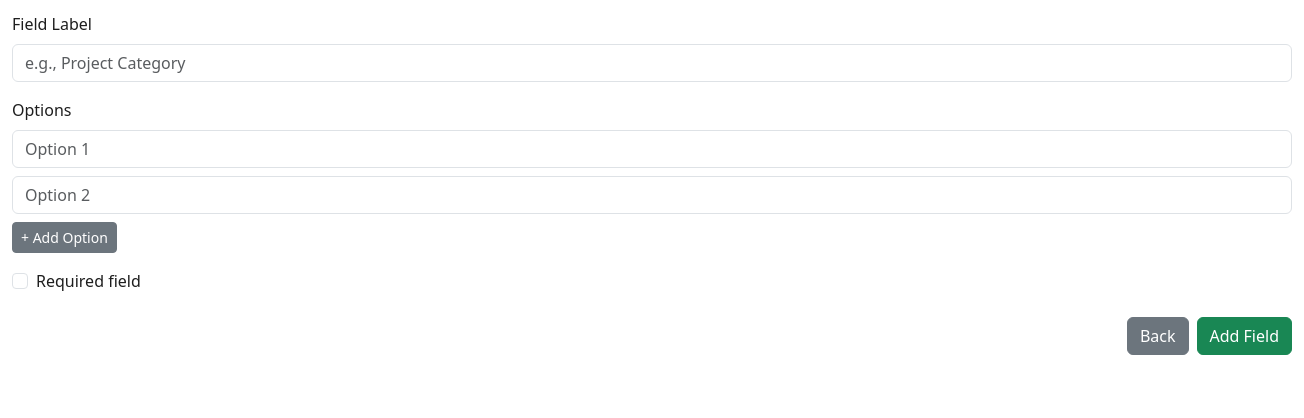
it: RadioFieldConfigurator › adds option when + Add Option is clicked
Expected: the field with placeholder "Option 3" is not shown
// Click add option button
Click the button "+ Add Option": (64, 238) left=12, top=222, right=117, bottom=253
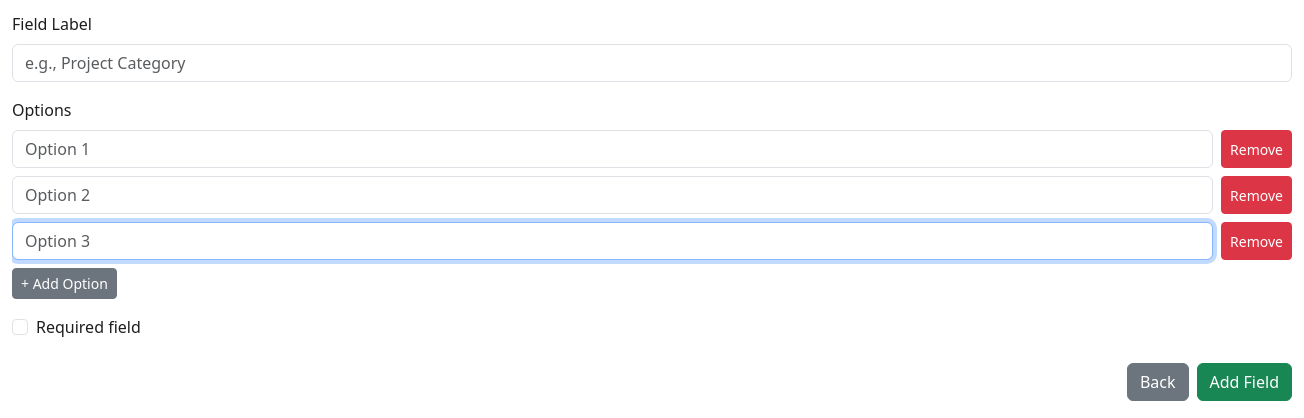
Expected: the field with placeholder "Option 3" is shown, left=12, top=222, right=1213, bottom=260
